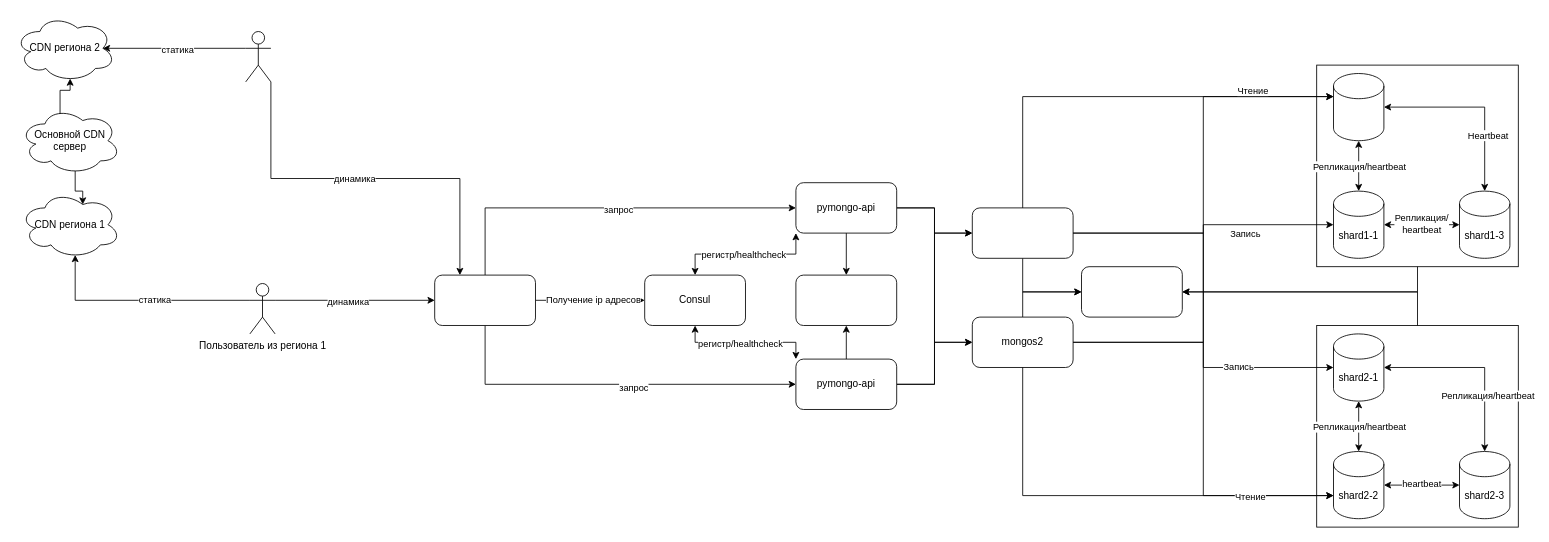
Some shapes in this 1549 by 542 pixel diagram are drawn without their labels. Here are the shapes that lost their labels. From the top down, the centre of each, then its label:
pixel 258 56: Пользователь из региона 2
pixel 1358 107: shard1-2
pixel 1022 232: mongos1
pixel 485 300: API Gateway
pixel 846 300: redis
pixel 1131 291: configSrv
